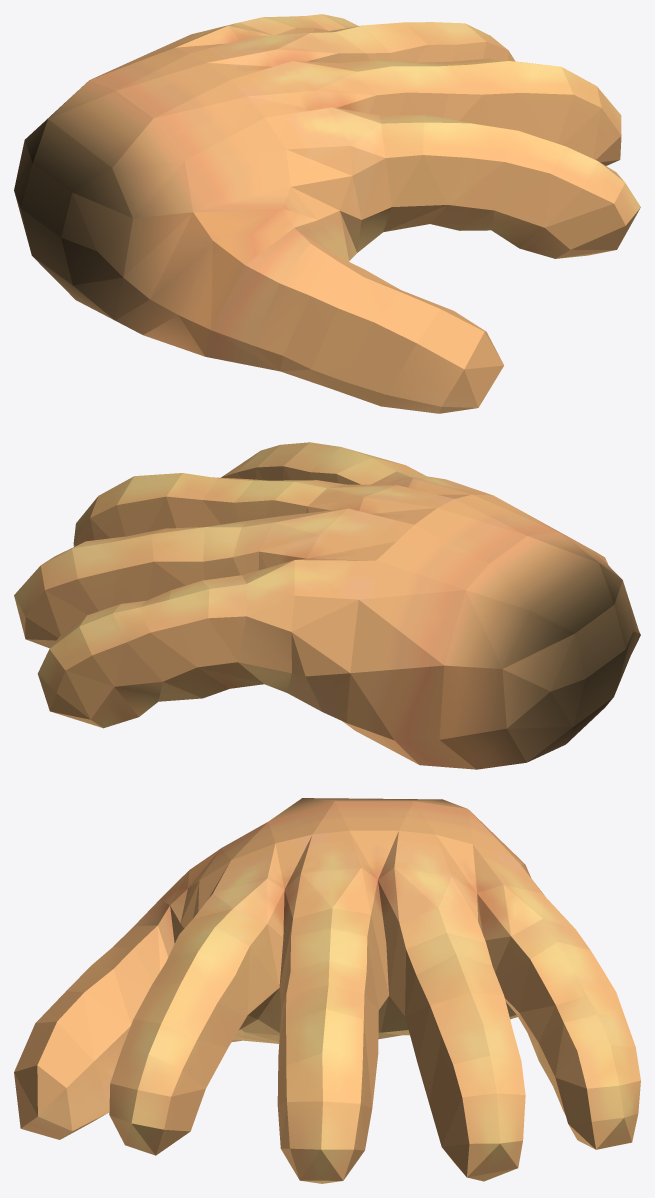
File: left hand 2.obj
3 renders of one model, top to bottom at view 1: azimuth 30°, elevation 25°; view 2: azimuth 150°, elevation 25°; view 3: azimuth 270°, elevation 25°, orthographic. The views are drawn at different scales.
Parts seen in each view (by area): view 1: n0b0_n0b0.001; view 2: n0b0_n0b0.001; view 3: n0b0_n0b0.001.
Part boxes in pixels (box(x1,y1,x2,y2)): n0b0_n0b0.001: box(14, 14, 640, 413); n0b0_n0b0.001: box(14, 442, 640, 769); n0b0_n0b0.001: box(14, 798, 640, 1183).
Size of the model in its own units: 8.08 by 3.36 by 7.45.
1 material, 1 textured.
